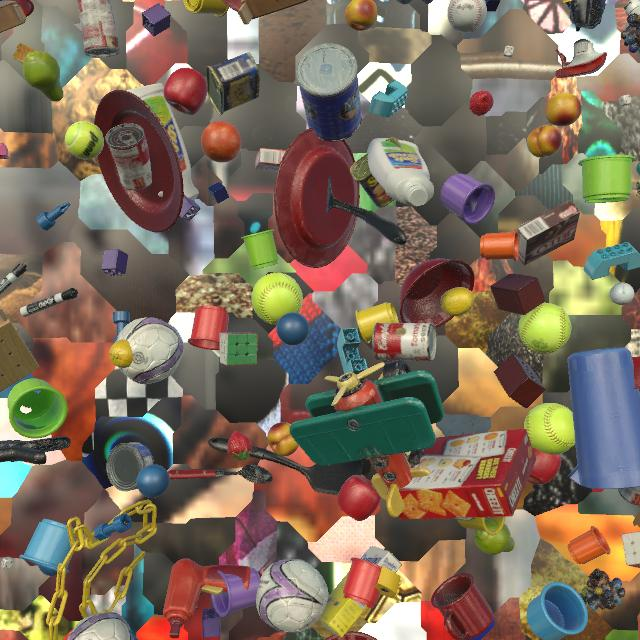ycb_002_master_chef_can: (296, 43, 362, 142)
ycb_003_cracker_box: (387, 429, 536, 520)
ycb_004_sugar_box: (318, 546, 402, 638)
ycb_005_tomato_soup_can: (106, 123, 152, 191), (372, 323, 437, 361), (77, 0, 120, 57), (618, 487, 640, 507)
ycb_007_tuna_fish_can: (106, 442, 154, 491)
ycb_008_pudding_box: (517, 200, 580, 265)
ycb_009_gelatin_box: (255, 148, 286, 171)
ycb_010_potted_meat_can: (350, 137, 402, 208), (207, 52, 260, 115)
ycb_012_strawberry: (227, 431, 252, 460), (469, 90, 493, 116)
ycb_013_apple: (163, 68, 208, 115), (337, 475, 381, 521), (528, 448, 561, 485)
ycb_014_lemon: (441, 287, 476, 316), (109, 339, 133, 368)
ycb_015_peach: (545, 93, 582, 126), (527, 125, 562, 158), (267, 422, 299, 456), (345, 0, 378, 31)
ycb_016_pear: (22, 51, 64, 102), (473, 518, 515, 555)
ycb_017_orange: (201, 121, 241, 163)
